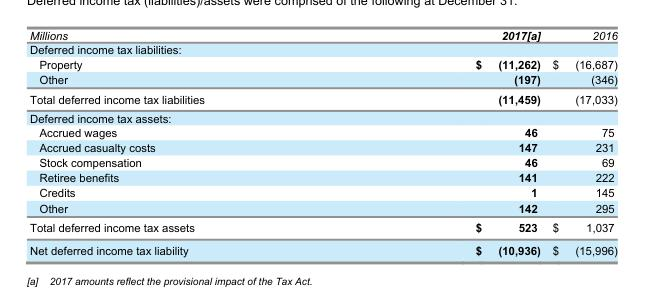table: (29, 28, 616, 256)
table column: (29, 28, 339, 256), (339, 28, 545, 256), (545, 28, 616, 256)
table column header: (29, 28, 616, 42)
table projected row header: (29, 108, 616, 124), (29, 42, 616, 56)
table row: (29, 217, 616, 238), (29, 88, 616, 108), (29, 238, 616, 256), (29, 71, 616, 88), (29, 200, 616, 217), (29, 108, 616, 124), (29, 184, 616, 200), (29, 56, 616, 71), (29, 124, 616, 139), (29, 139, 616, 154), (29, 154, 616, 169), (29, 169, 616, 184), (29, 28, 616, 42), (29, 42, 616, 56)
